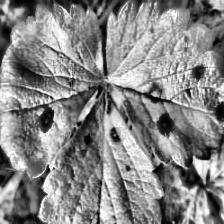Leaf Spot: (105, 0, 224, 170), (0, 0, 107, 181), (38, 87, 165, 224), (131, 151, 218, 224)
